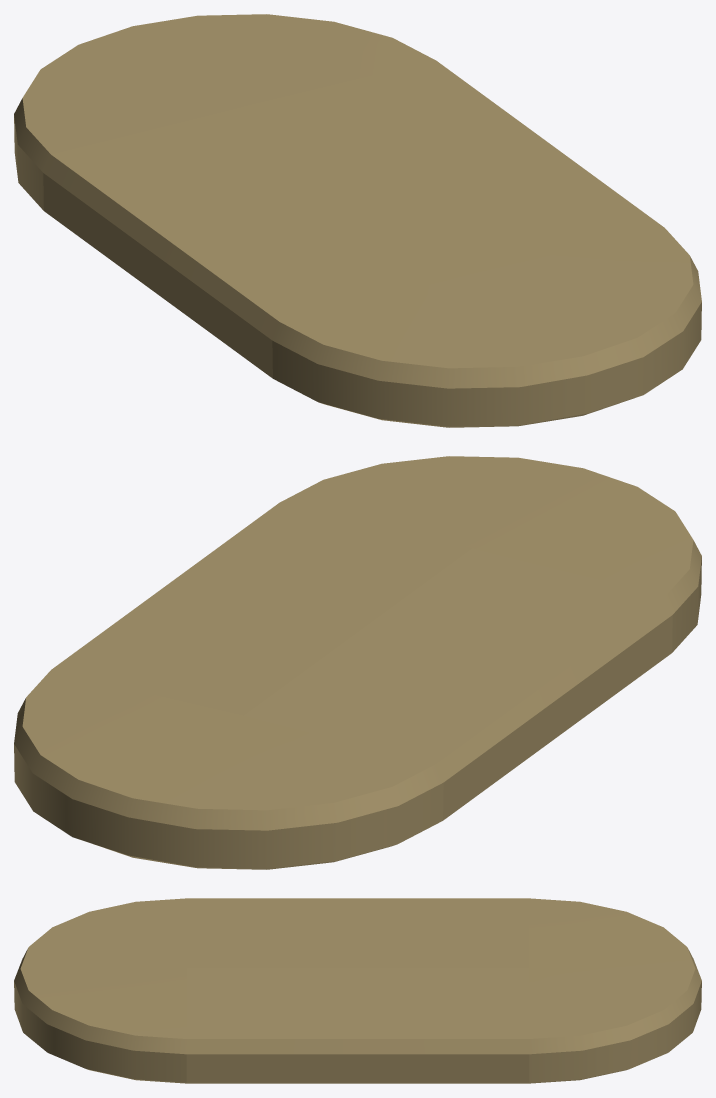
File: G_Metal_02.fbx
3 views of the same model, one above another, from view 1: azimuth 30°, elevation 25°; view 2: azimuth 150°, elevation 25°; view 3: azimuth 270°, elevation 25° (orthographic). The views are drawn at different scales.
Parts seen in each view (by area): view 1: G_Metal_02; view 2: G_Metal_02; view 3: G_Metal_02.
Boxes of the visible parts, x1,y1,x2,y2 form: G_Metal_02: (14,14,701,427); G_Metal_02: (14,456,701,869); G_Metal_02: (14,898,701,1083).
Bounding box in the file's own units: 7.85 × 1.17 × 15.61.
